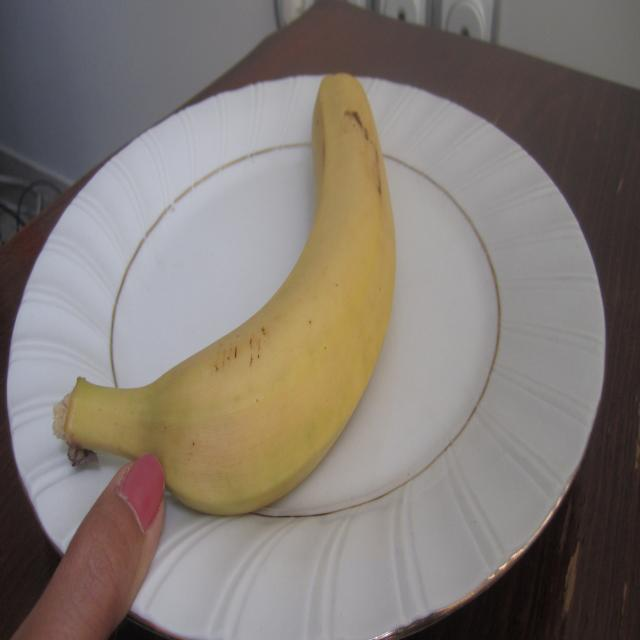Banana: (51, 68, 404, 526)
Finger: (27, 446, 181, 640)
